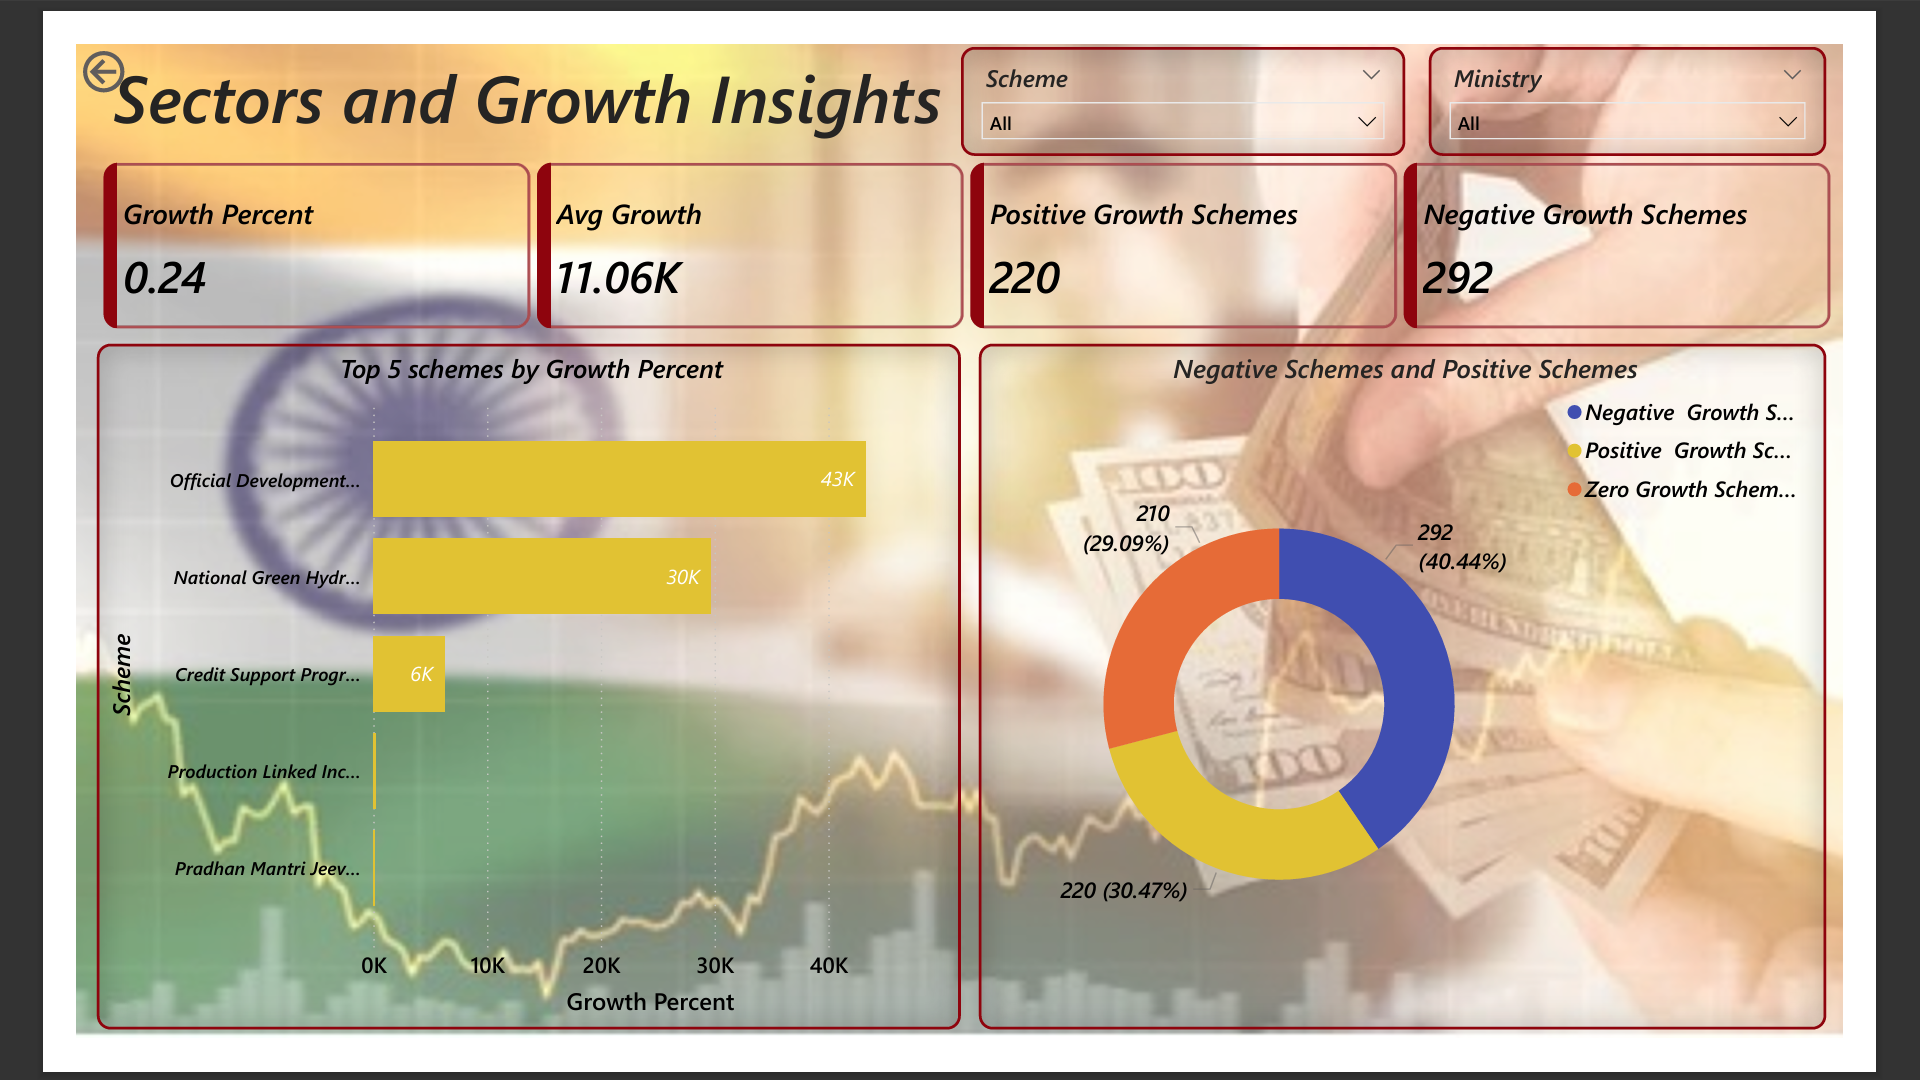

The page's visual inventory and layout, read from the dashboard file:
{"tool":"powerbi","page":{"name":"sector and growth","canvas":[1280,720],"ordinal":2},"visuals":[{"type":"textbox","box":[0,0,654.2,94.9],"z":0},{"type":"cardVisual","fields":{"Data":["Unionbudget_cleaned.Growth Percent","Unionbudget_cleaned.Avg Growth","Unionbudget_cleaned.Positive Schemes","Unionbudget_cleaned.Negative Schemes"]},"box":[15.3,81.4,1264.4,130.5],"z":1000},{"type":"actionButton","box":[0,0,100,40],"z":2000},{"type":"donutChart","title":"Negative Schemes and Positive Schemes ","fields":{"Y":["Unionbudget_cleaned.Negative Schemes","Unionbudget_cleaned.Positive Schemes","Unionbudget_cleaned.Zero Schemes"]},"box":[654.2,216.9,613.6,496.6],"z":3000},{"type":"clusteredBarChart","title":"Top 5 schemes by Growth Percent","fields":{"Category":["Unionbudget_cleaned.Scheme"],"Y":["Unionbudget_cleaned.Growth Percent"]},"box":[15.3,216.9,625.4,496.6],"z":4000},{"type":"slicer","fields":{"Values":["Unionbudget_cleaned.Scheme"]},"box":[640.7,1.7,322,79.7],"z":5000},{"type":"slicer","fields":{"Values":["Unionbudget_cleaned.Ministry"]},"box":[979.7,1.7,288.1,79.7],"z":6000}]}

Visuals, with their boxes in screenshot pixels (x1, y1, x2, y2), scaled from the page's 1280x720 canvas onto the 1920x1080 screenshot:
textbox: region(0, 0, 981, 142)
cardVisual - Unionbudget_cleaned.Growth Percent x Unionbudget_cleaned.Avg Growth: region(23, 122, 1919, 318)
actionButton: region(0, 0, 150, 60)
"Negative Schemes and Positive Schemes " donutChart: region(981, 325, 1902, 1070)
"Top 5 schemes by Growth Percent" clusteredBarChart: region(23, 325, 961, 1070)
slicer - Unionbudget_cleaned.Scheme: region(961, 3, 1444, 122)
slicer - Unionbudget_cleaned.Ministry: region(1470, 3, 1902, 122)
